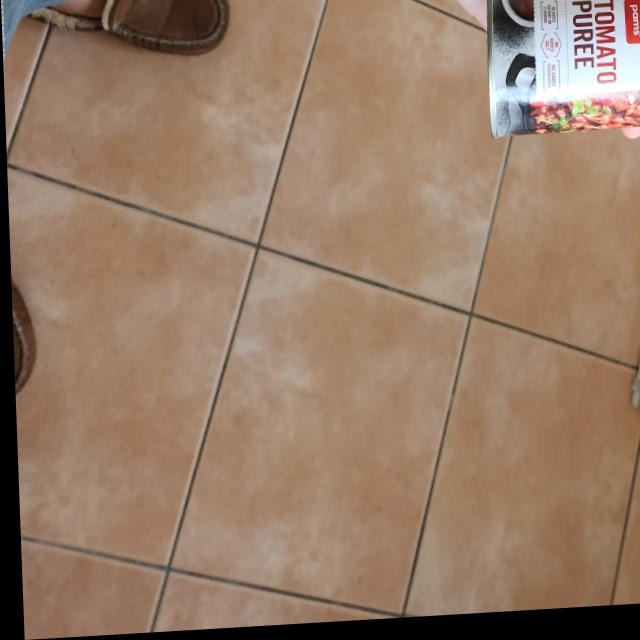tomato puree: (480, 0, 640, 144)
